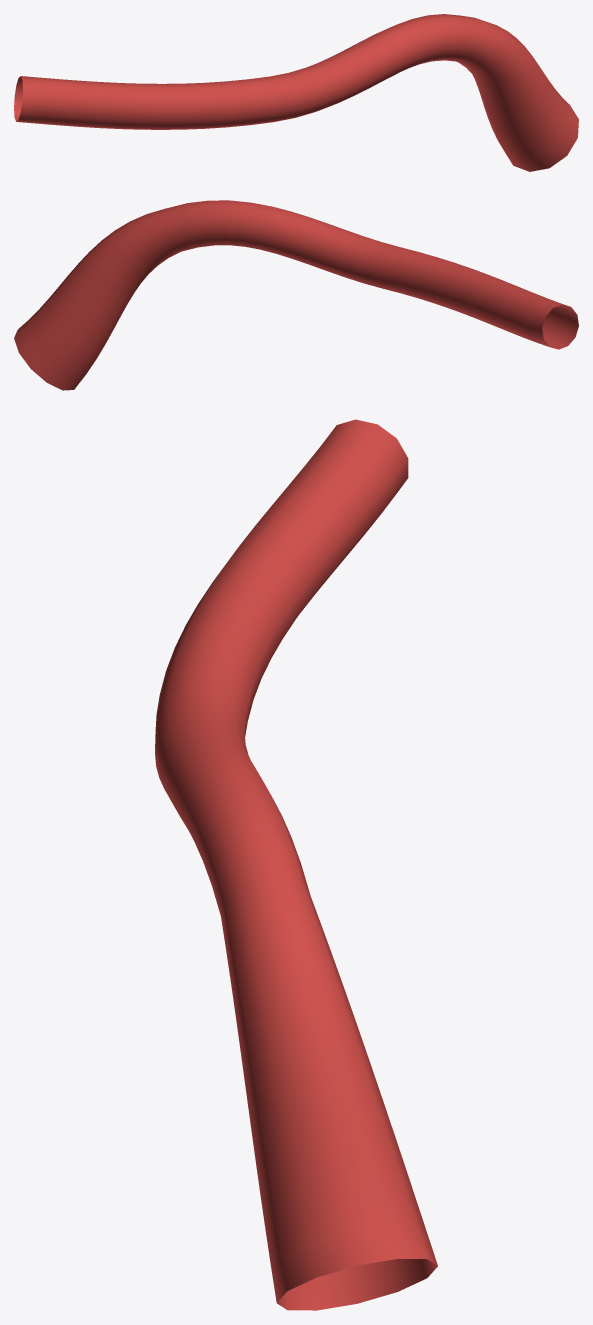
3 renders of one model, top to bottom at view 1: azimuth 30°, elevation 25°; view 2: azimuth 150°, elevation 25°; view 3: azimuth 270°, elevation 25°, orthographic. The views are drawn at different scales.
Visible parts, largest first — view 1: 右锁骨下动脉; view 2: 右锁骨下动脉; view 3: 右锁骨下动脉.
Boxes of the visible parts, x1=… form: 右锁骨下动脉: x1=14, y1=14, x2=578, y2=171; 右锁骨下动脉: x1=14, y1=200, x2=578, y2=390; 右锁骨下动脉: x1=155, y1=419, x2=437, y2=1310.
Size of the model in its own units: 0.1022 by 0.0361 by 0.0226.
